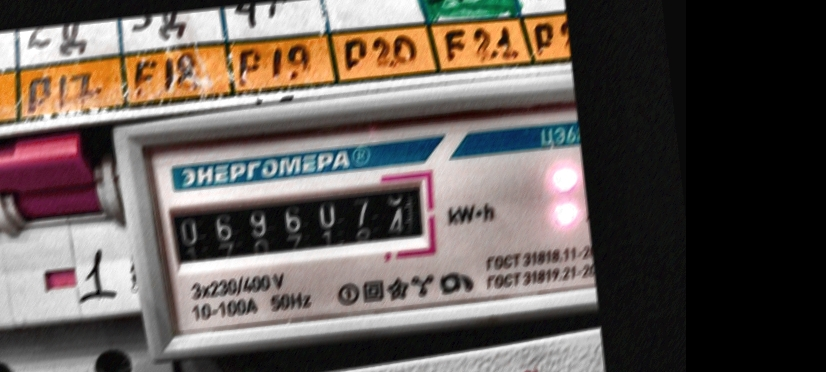0: (316, 197, 338, 229), (178, 216, 199, 245)
4: (386, 205, 405, 235)
6: (281, 203, 303, 234), (213, 211, 235, 241)
7: (352, 196, 372, 227)
9: (248, 208, 268, 238)
screen: (153, 162, 446, 282)
